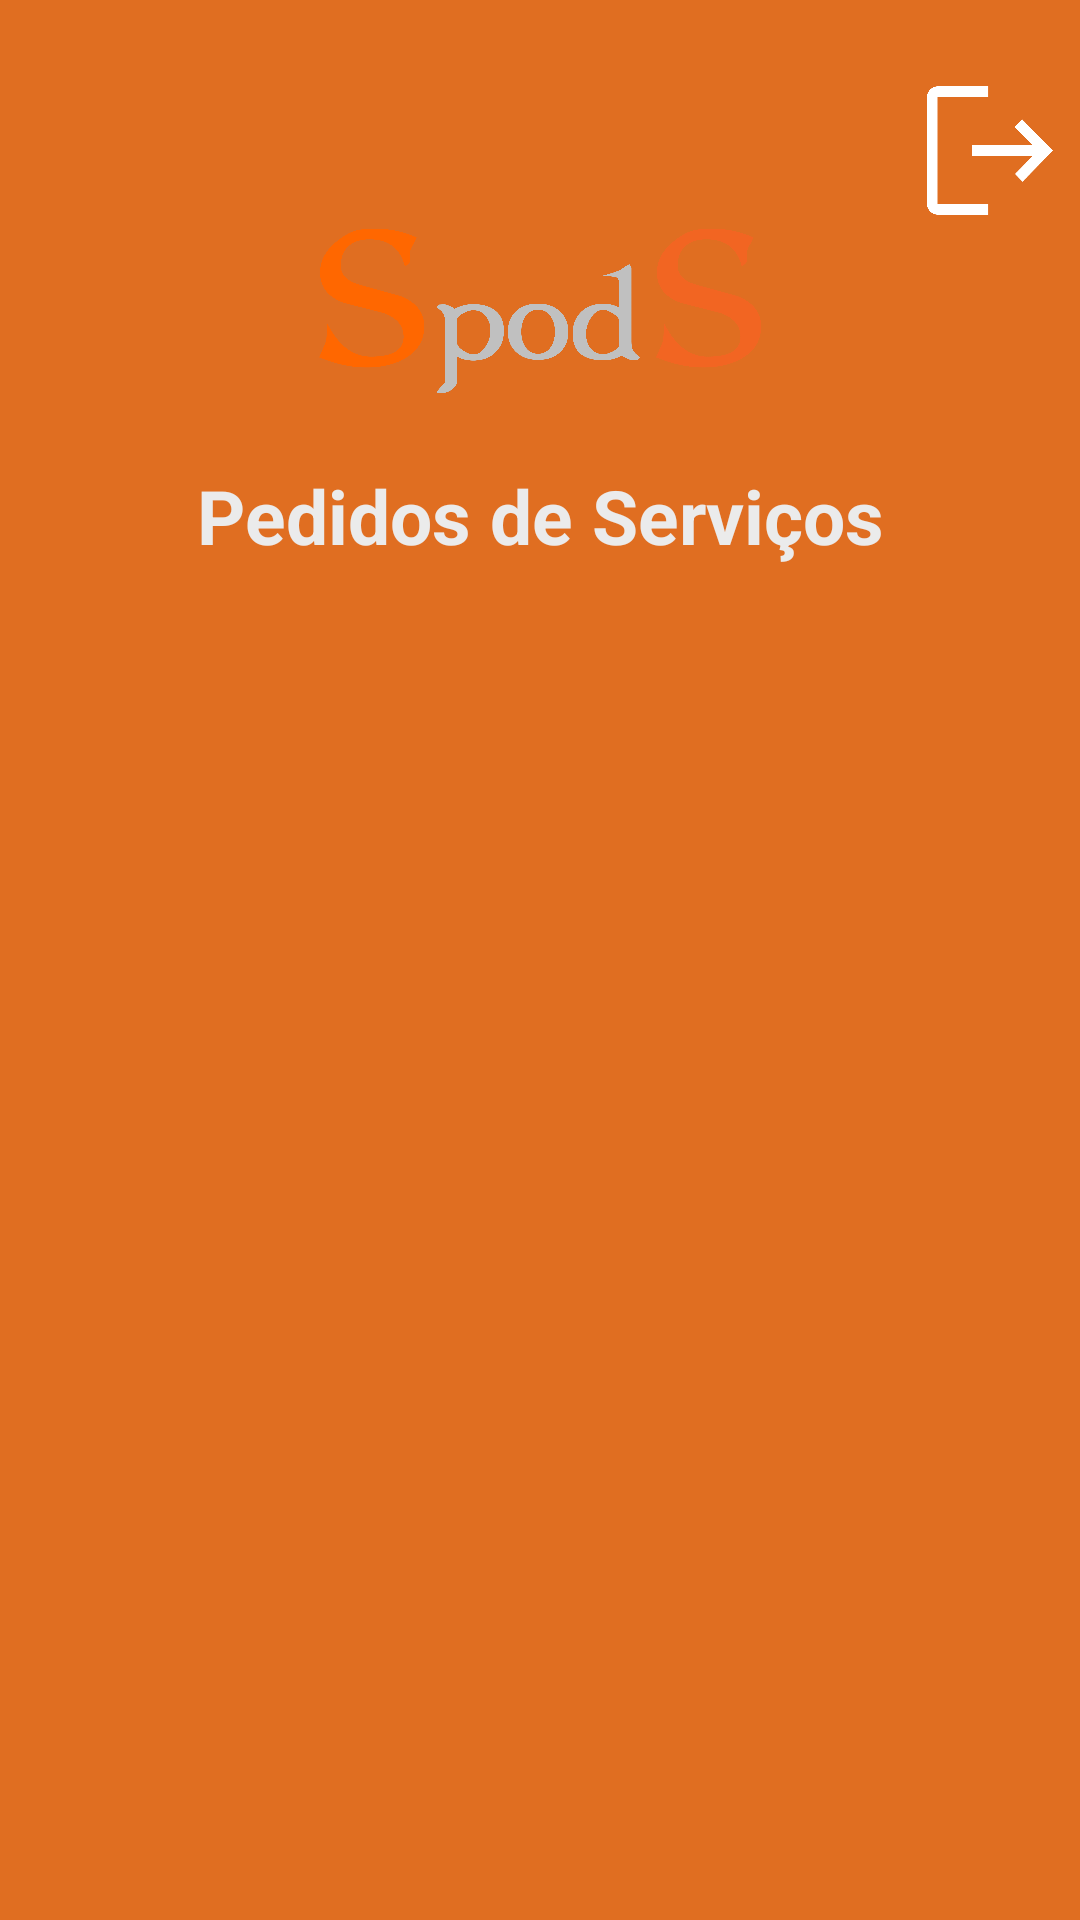

Named icons in this screenshot (1080×1920) and their bounding boxes, (x1, y1, x2, y2):
exit: (927, 86, 1053, 215)
